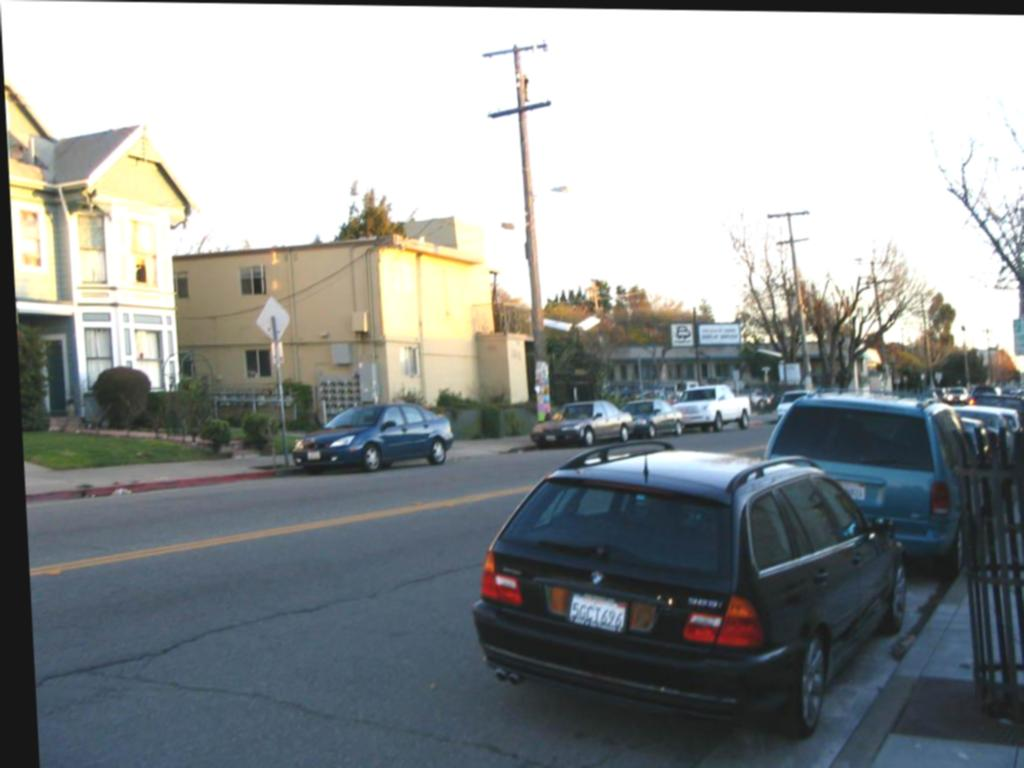License_Plate: (571, 592, 629, 636), (837, 483, 865, 503)
